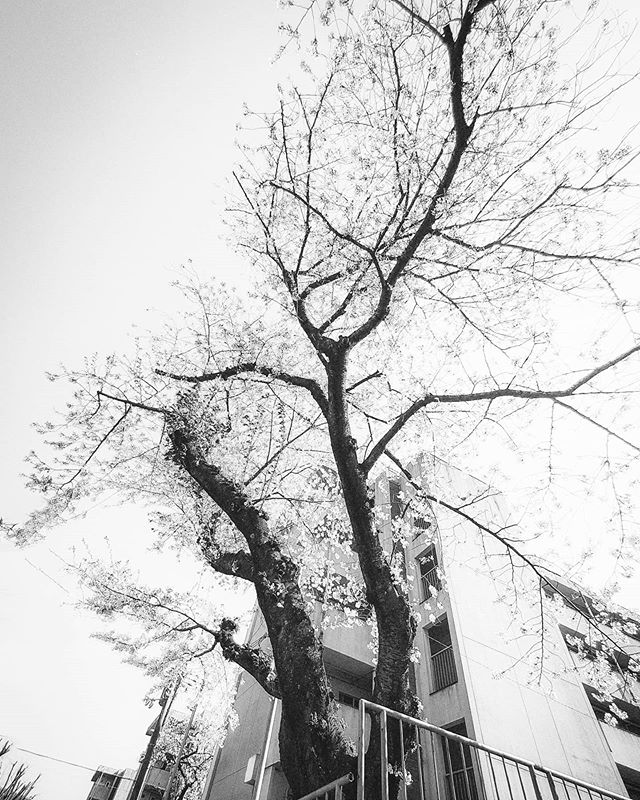building: (216, 475, 605, 800)
sky: (20, 1, 640, 468)
tree: (27, 26, 622, 750)
